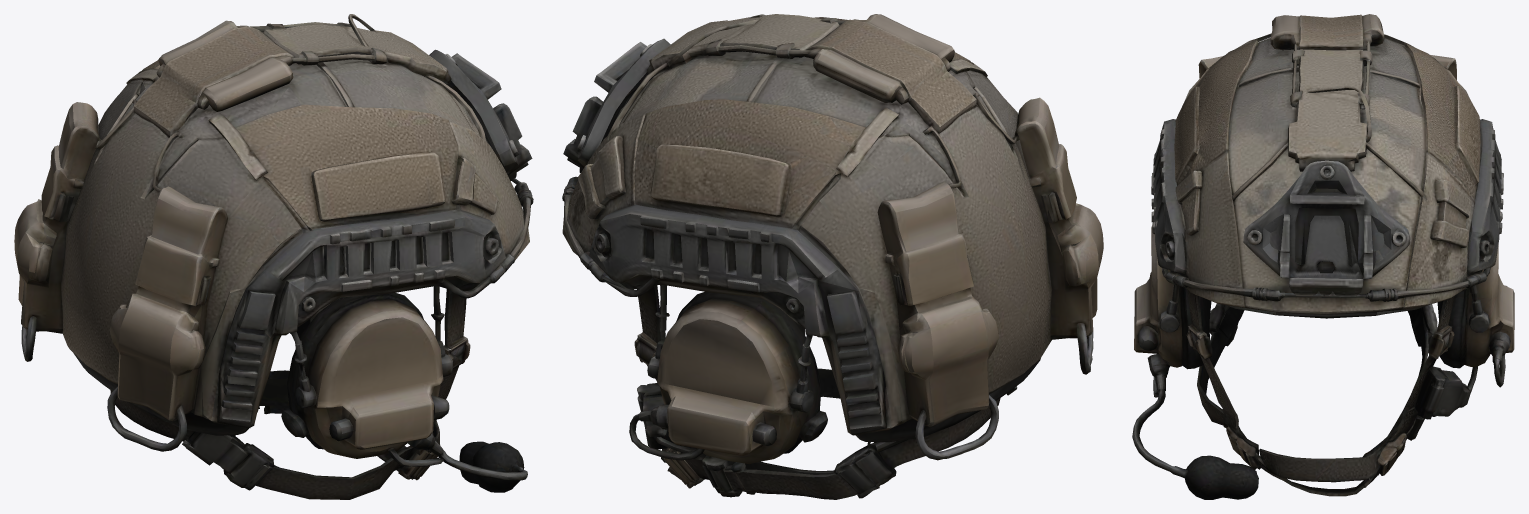
File: helmet.glb
3 views of the same model, side by side, from view 1: azimuth 30°, elevation 25°; view 2: azimuth 150°, elevation 25°; view 3: azimuth 270°, elevation 25° (orthographic). The views are drawn at different scales.
Parts seen in each view (by area): view 1: obj1_0; view 2: obj1_0; view 3: obj1_0.
Boxes of the visible parts, bbox=[...] form: obj1_0: bbox=[14, 14, 533, 499]; obj1_0: bbox=[562, 14, 1103, 499]; obj1_0: bbox=[1132, 14, 1514, 499].
Bounding box in the file's own units: 0.3 × 0.2989 × 0.2553.
1 material, 1 textured.
